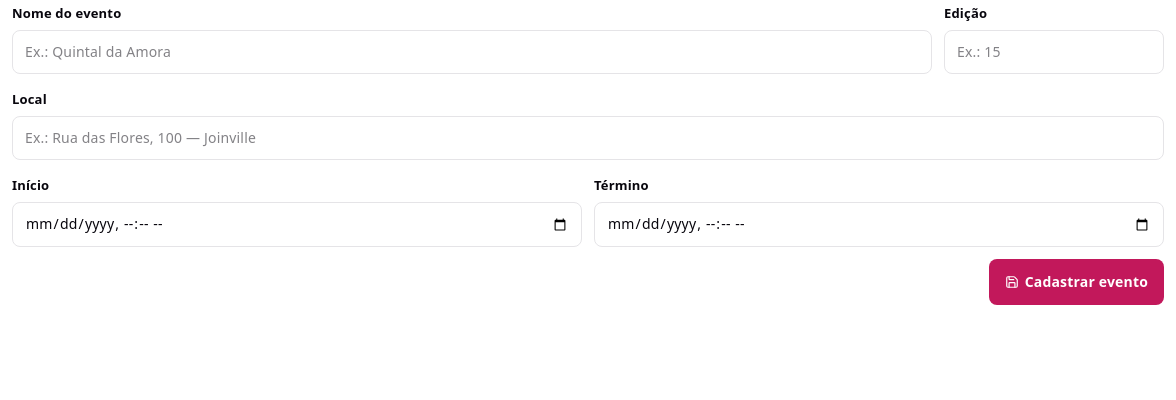
Test: EventForm › não envia quando faltam campos obrigatórios
Click the button "Cadastrar evento" at (1077, 282), box [989,259,1164,305]
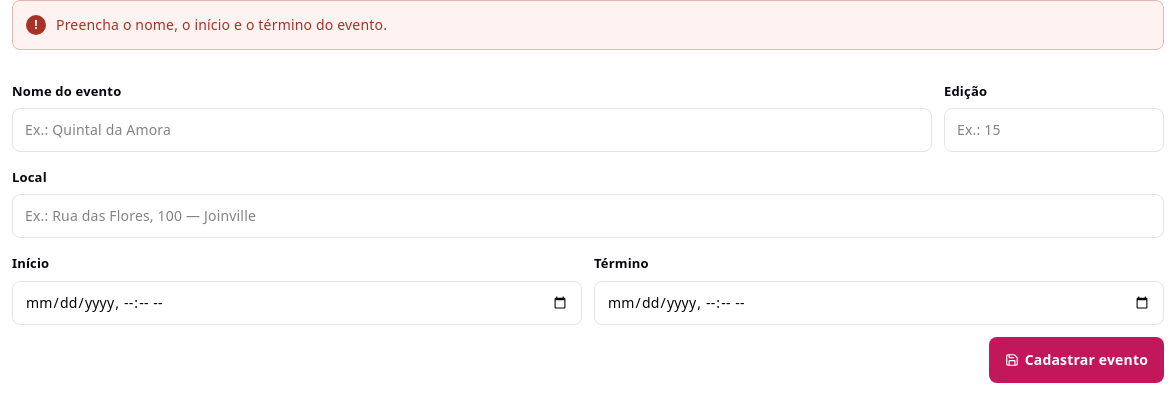
Expected: the message shows "Preencha o nome, o início e o término do evento.", [56,15,387,34]
